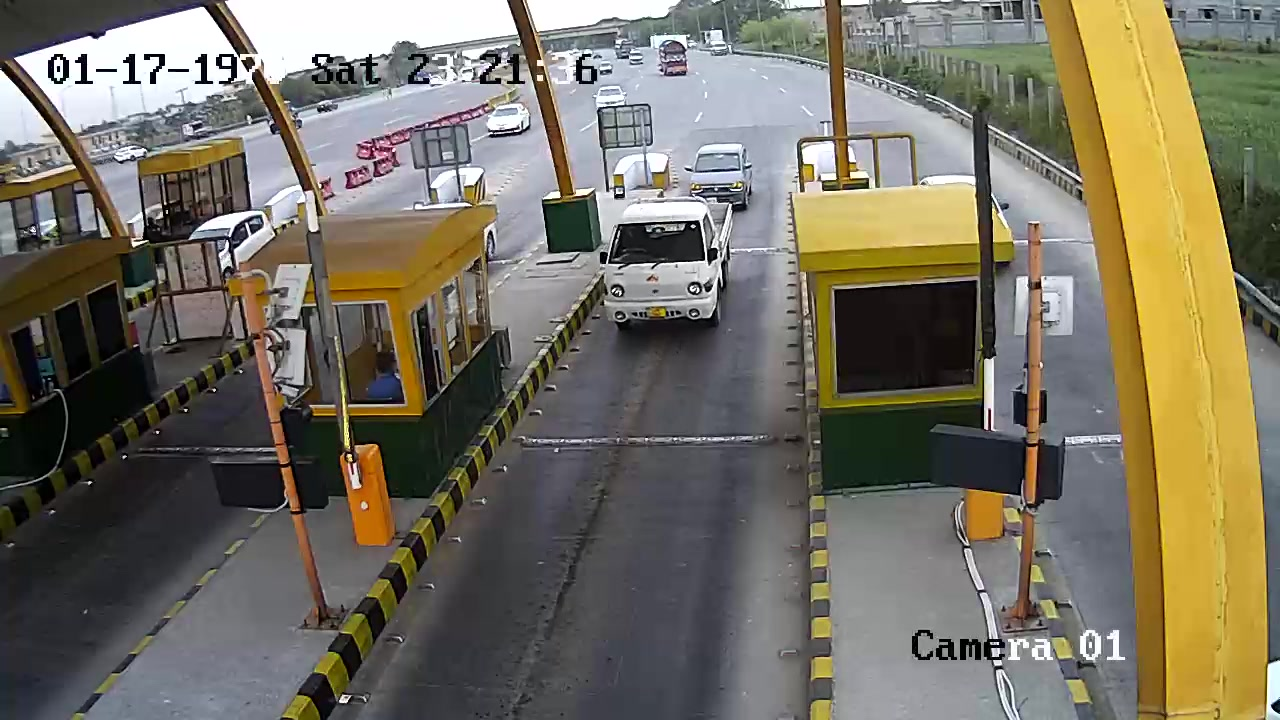F2: (602, 196, 738, 338)
